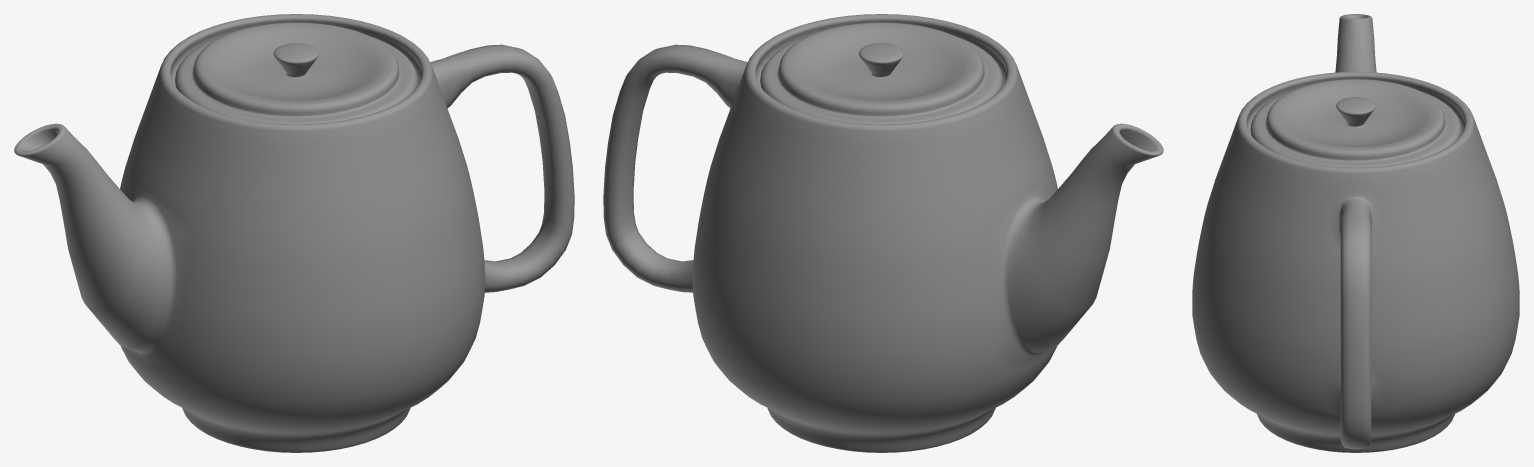
Rendered from teapot.gltf.
3 views of the same model, side by side, from view 1: azimuth 30°, elevation 25°; view 2: azimuth 150°, elevation 25°; view 3: azimuth 270°, elevation 25° (orthographic). The views are drawn at different scales.
Parts seen in each view (by area): view 1: pot, lid; view 2: pot, lid; view 3: pot, lid.
Boxes of the visible parts, x1,y1,x2,y2 form: pot: [14, 14, 574, 452]; lid: [175, 22, 417, 124]; pot: [603, 14, 1163, 452]; lid: [760, 22, 1002, 124]; pot: [1192, 14, 1519, 452]; lid: [1250, 79, 1461, 167].
Bounding box in the file's own units: 17.03 × 10.46 × 10.04.
Materials: 1 (1 with a texture image).
